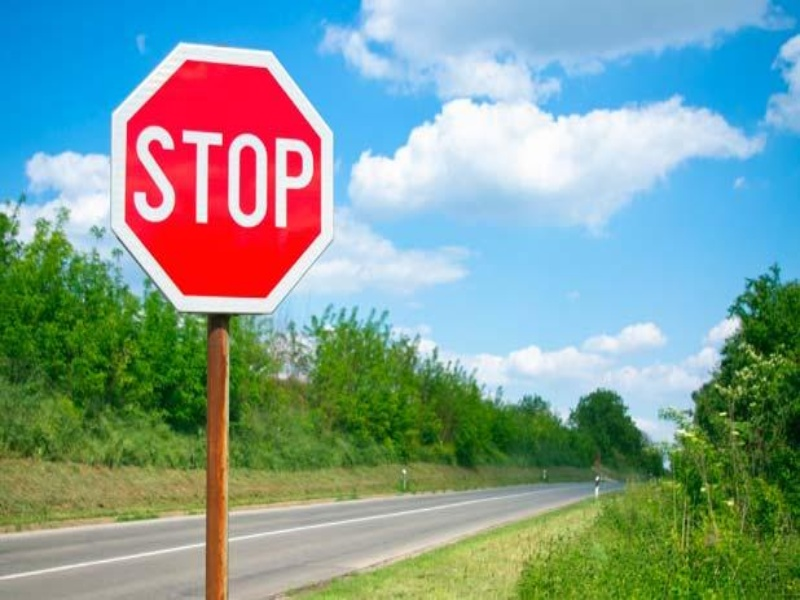stop sign: (108, 40, 339, 321)
